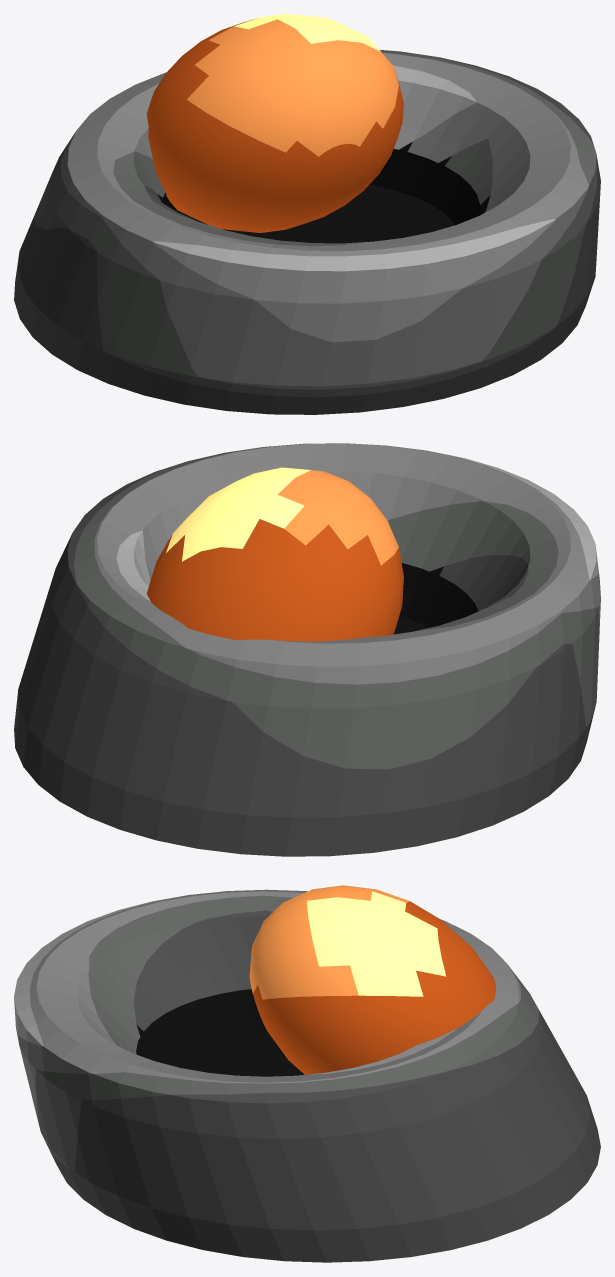
Rendered from fruit_hex_eye_235.glb.
3 views of the same model, one above another, from view 1: azimuth 30°, elevation 25°; view 2: azimuth 150°, elevation 25°; view 3: azimuth 270°, elevation 25° (orthographic). The views are drawn at different scales.
Parts seen in each view (by area): view 1: fruit_hex_eye_235; view 2: fruit_hex_eye_235; view 3: fruit_hex_eye_235.
Boxes of the visible parts, bbox=[...] form: fruit_hex_eye_235: bbox=[14, 14, 600, 414]; fruit_hex_eye_235: bbox=[14, 443, 600, 856]; fruit_hex_eye_235: bbox=[14, 885, 600, 1262].
Size of the model in its own units: 10.5 by 5.23 by 11.15.
